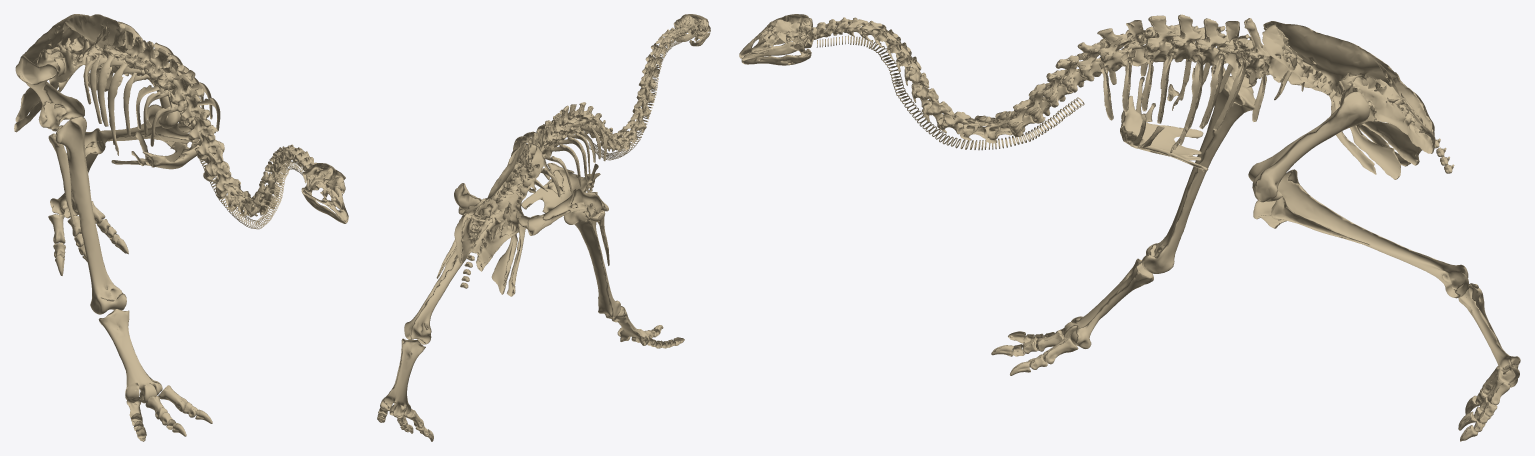
Rendered from moa.glb.
3 renders of one model, left to right at view 1: azimuth 30°, elevation 25°; view 2: azimuth 150°, elevation 25°; view 3: azimuth 270°, elevation 25°, orthographic. The views are drawn at different scales.
Parts seen in each view (by area): view 1: Synsacrum, Tibiotarse_R, Femur_R, Tarsometatarse_R, Tibiotarse_L, Crane, Sternum, Cote_V_R, Cote_VI_R, Thoracique_I, Femur_L, Thoracique_II (+21 smaller); view 2: Synsacrum, Tibiotarse_R, Tibiotarse_L, Tarsometatarse_L, Sternum, Femur_R, Tarsometatarse_R, Crane, Femur_L; view 3: Synsacrum, Tibiotarse_L, Tibiotarse_R, Femur_L, Sternum, Tarsometatarse_R, Crane, Tarsometatarse_L, Thoracique_III, Thoracique_IV, Mandibule, Thoracique_I (+11 smaller).
Boxes of the visible parts, x1,y1,x2,y2 form: Synsacrum: (14, 14, 125, 132); Tibiotarse_R: (48, 116, 126, 314); Femur_R: (15, 55, 84, 131); Tarsometatarse_R: (98, 308, 162, 403); Tibiotarse_L: (84, 104, 190, 157); Crane: (301, 163, 348, 220); Sternum: (111, 142, 199, 169); Cote_V_R: (107, 62, 140, 155); Cote_VI_R: (97, 55, 126, 126); Thoracique_I: (170, 75, 204, 112); Femur_L: (118, 21, 199, 128); Thoracique_II: (158, 59, 195, 96); Synsacrum: (454, 141, 544, 296); Tibiotarse_R: (563, 192, 620, 318); Tibiotarse_L: (404, 236, 476, 344); Tarsometatarse_L: (381, 338, 425, 416); Sternum: (521, 163, 600, 212); Femur_R: (517, 188, 602, 235); Tarsometatarse_R: (604, 306, 649, 345); Crane: (673, 14, 710, 41); Femur_L: (454, 183, 481, 215); Synsacrum: (1258, 21, 1435, 179); Tibiotarse_L: (1253, 169, 1468, 298); Tibiotarse_R: (1141, 65, 1255, 273); Femur_L: (1248, 91, 1369, 202); Sternum: (1120, 96, 1208, 172); Tarsometatarse_R: (1063, 258, 1153, 349); Crane: (739, 14, 812, 58); Tarsometatarse_L: (1458, 283, 1520, 387); Thoracique_III: (1143, 15, 1175, 62); Thoracique_IV: (1167, 14, 1202, 62); Mandibule: (741, 39, 813, 65); Thoracique_I: (1097, 28, 1130, 71).
Size of the model in its own units: 0.4155 by 0.7153 by 1.33.
